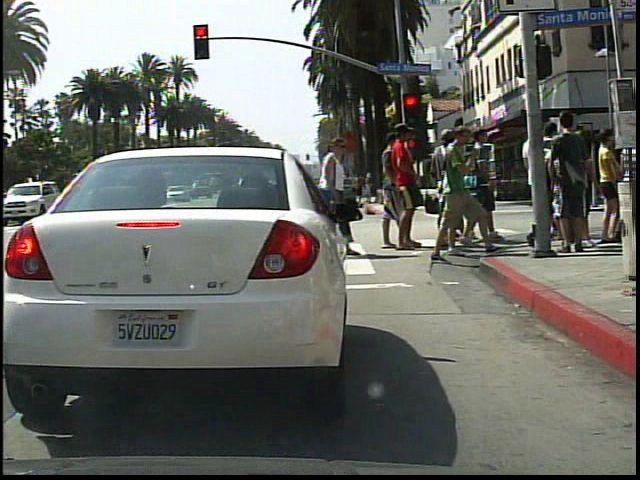person: (312, 130, 359, 263)
